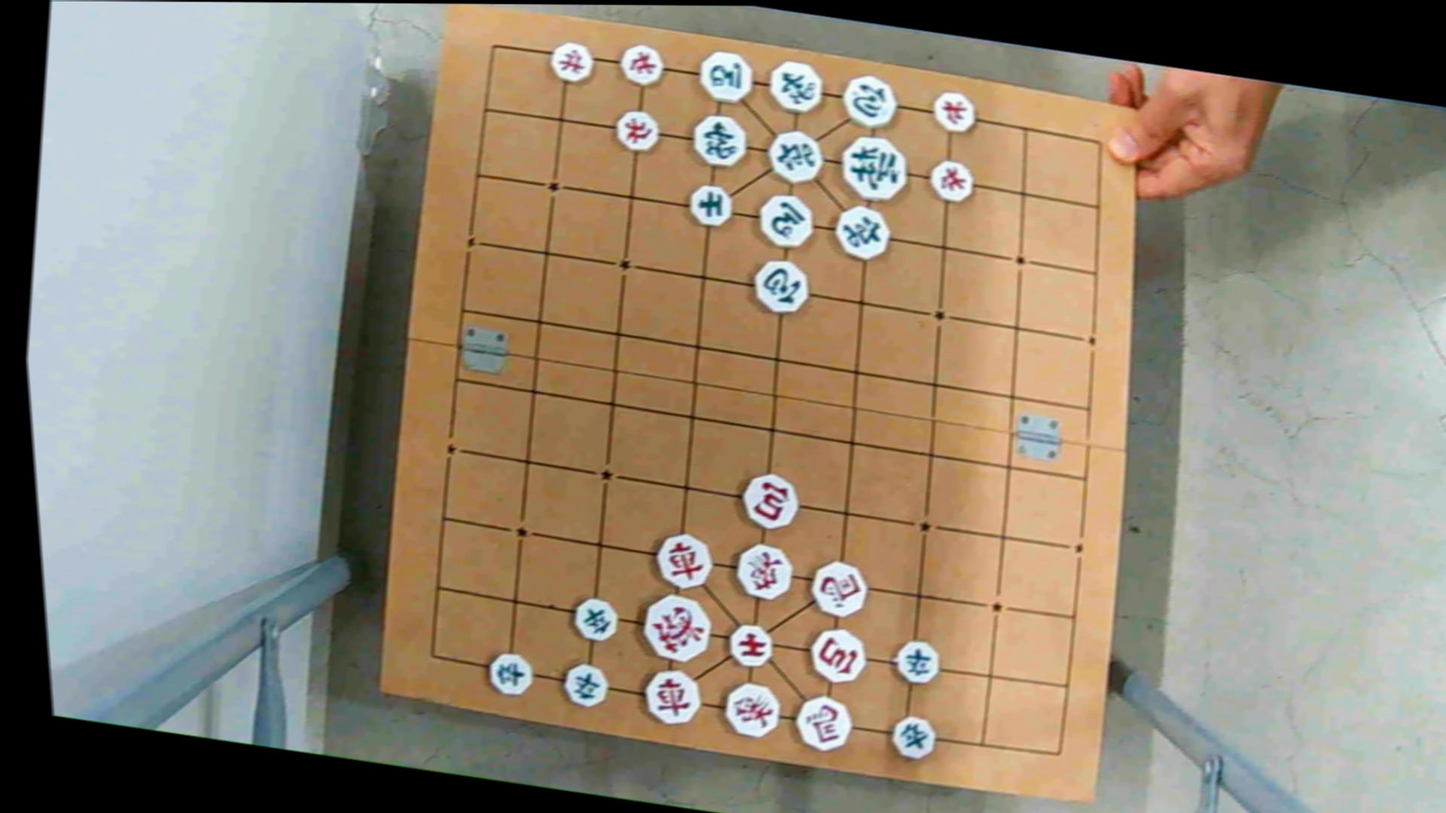cha_green: (828, 204, 893, 263), (761, 129, 828, 185)
cha_red: (651, 532, 720, 589), (640, 668, 707, 726)
jol_green: (882, 713, 941, 763), (480, 650, 535, 699), (555, 659, 609, 707), (889, 639, 943, 686), (567, 596, 621, 643)
jol_red: (925, 90, 980, 136), (615, 43, 669, 87), (924, 159, 979, 202), (547, 40, 599, 84), (609, 109, 662, 151)
ma_green: (750, 194, 817, 251), (690, 51, 757, 106)
ma_red: (801, 562, 871, 621), (786, 696, 856, 754)
po_green: (745, 258, 813, 316), (835, 74, 902, 129)
po_red: (803, 624, 871, 683), (736, 473, 805, 530)
sa_green: (682, 184, 735, 229)
sa_red: (722, 623, 779, 668)
sang_green: (684, 114, 751, 169), (765, 56, 827, 114)
sang_red: (715, 683, 786, 741), (731, 543, 798, 602)
wang_green: (835, 132, 915, 203)
wang_red: (635, 594, 718, 663)
